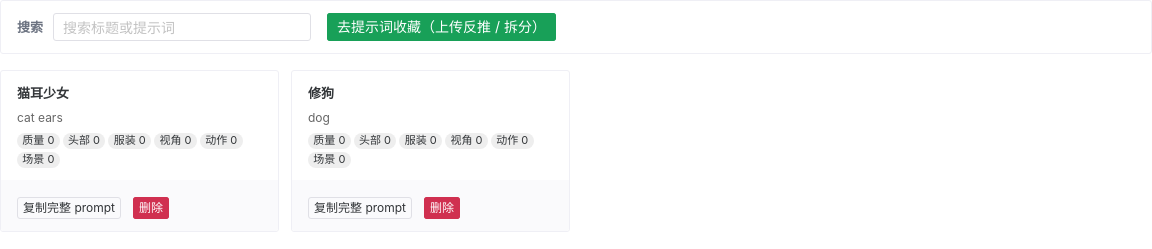
Test: CollectionListPage › 关键词子串过滤收藏
Type "猫" into the field with placeholder "搜索标题或提示词" at {"x": 172, "y": 27}, box [63, 13, 281, 41]
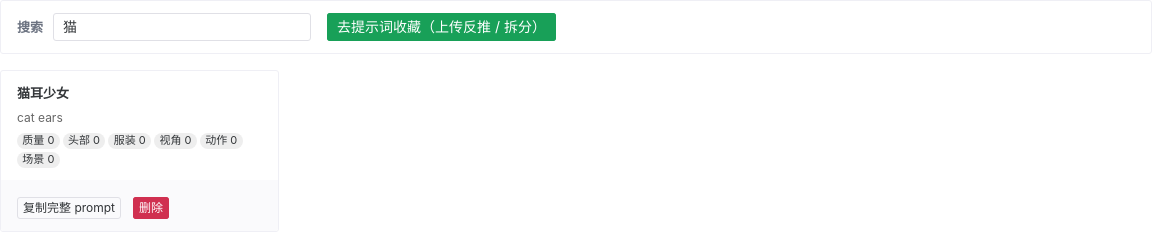
expect the text "猫耳少女" is shown: met, box [17, 85, 69, 101]
expect the text "修狗" is gone: met
